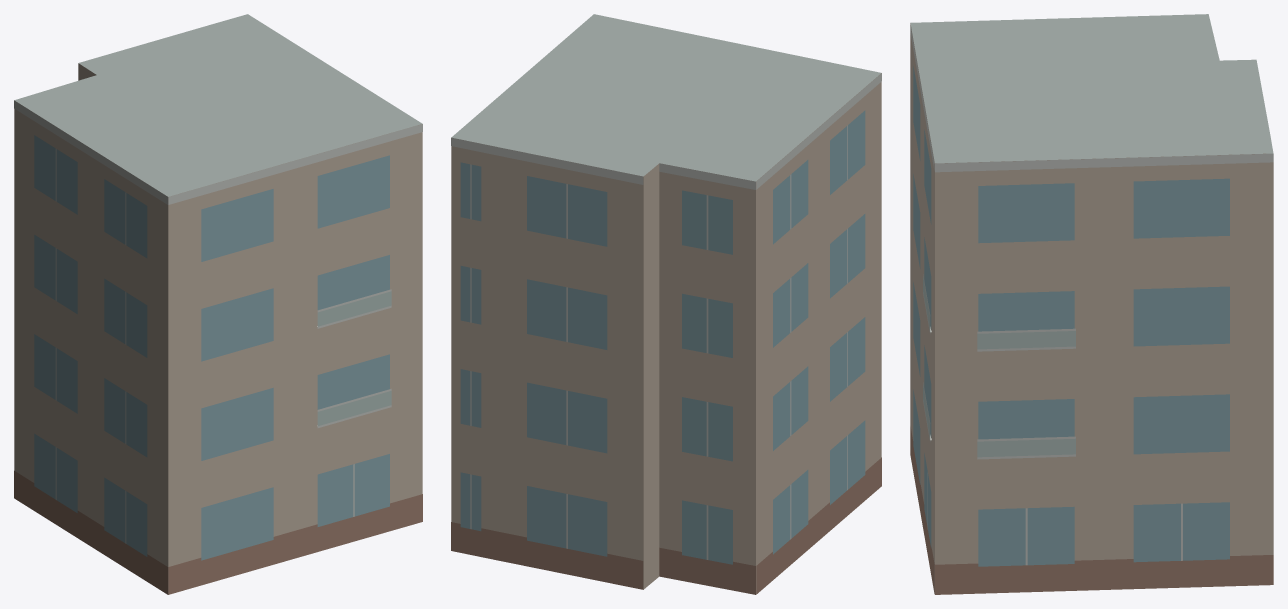
File: survey-upis-32757070.glb
3 renders of one model, left to right at view 1: azimuth 30°, elevation 25°; view 2: azimuth 150°, elevation 25°; view 3: azimuth 270°, elevation 25°, orthographic. The views are drawn at different scales.
Parts seen in each view (by area): view 1: survey-upis-32757070.tmp; view 2: survey-upis-32757070.tmp; view 3: survey-upis-32757070.tmp.
Boxes of the visible parts, x1,y1,x2,y2 form: survey-upis-32757070.tmp: (14,14,422,594); survey-upis-32757070.tmp: (451,14,881,594); survey-upis-32757070.tmp: (910,14,1273,594).
Bounding box in the file's own units: 8.77 × 11.8 × 9.01.
